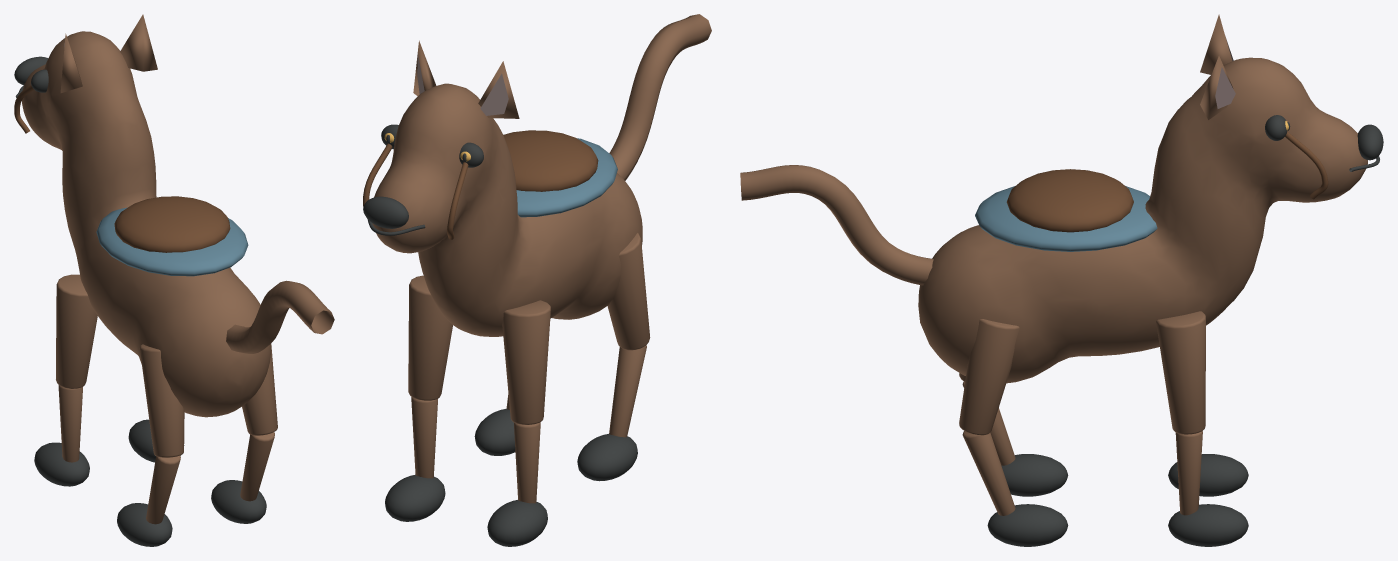
The model's file is warhorse.glb.
The picture shows the model from 3 angles, left to right: view 1: azimuth 30°, elevation 25°; view 2: azimuth 150°, elevation 25°; view 3: azimuth 270°, elevation 25°; orthographic projection. The views are drawn at different scales.
Parts seen in each view (by area): view 1: Sculpted anatomy, Riding saddle, Woven saddle blanket, Upper leg, Flowing tail, Upper leg.001, Paw.003, Paw, Paw.001, Upper leg.003, Lower leg, Lower leg.001 (+5 smaller); view 2: Sculpted anatomy, Flowing tail, Upper leg, Riding saddle, Upper leg.002, Upper leg.001, Woven saddle blanket, Paw.001, Paw.002, Paw, Lower leg.001, Lower leg (+8 smaller); view 3: Sculpted anatomy, Flowing tail, Riding saddle, Woven saddle blanket, Upper leg.002, Upper leg.003, Paw.003, Paw.002, Paw.001, Lower leg.003, Paw, Lower leg.002 (+4 smaller).
Part boxes in pixels (box(x1,y1,x2,y2)): Sculpted anatomy: box(22, 31, 271, 417); Riding saddle: box(114, 196, 230, 252); Woven saddle blanket: box(96, 207, 248, 276); Upper leg: box(56, 274, 97, 388); Flowing tail: box(226, 280, 334, 353); Upper leg.001: box(139, 344, 184, 457); Paw.003: box(211, 480, 266, 523); Paw: box(34, 442, 89, 486); Paw.001: box(117, 503, 172, 546); Upper leg.003: box(242, 345, 277, 435); Lower leg: box(58, 385, 83, 462); Lower leg.001: box(146, 455, 180, 524); Sculpted anatomy: box(372, 83, 642, 336); Flowing tail: box(609, 14, 711, 180); Upper leg: box(502, 300, 550, 424); Riding saddle: box(503, 130, 598, 191); Upper leg.002: box(408, 275, 452, 400); Upper leg.001: box(607, 233, 650, 350); Woven saddle blanket: box(516, 138, 617, 217); Paw.001: box(577, 434, 637, 481); Paw.002: box(385, 474, 445, 521); Paw: box(487, 500, 547, 546); Lower leg.001: box(609, 345, 646, 437); Lower leg: box(514, 422, 540, 503); Sculpted anatomy: box(918, 57, 1367, 383); Flowing tail: box(740, 165, 933, 285); Riding saddle: box(1006, 169, 1133, 232); Woven saddle blanket: box(975, 186, 1157, 251); Upper leg.002: box(1156, 311, 1205, 434); Upper leg.003: box(959, 319, 1019, 435); Paw.003: box(987, 504, 1068, 546); Paw.002: box(1168, 504, 1248, 546); Paw.001: box(1001, 454, 1068, 496); Lower leg.003: box(962, 431, 1015, 515); Paw: box(1168, 454, 1248, 496); Lower leg.002: box(1175, 431, 1202, 515).
Bounding box in the file's own units: 0.81 × 2.51 × 3.03.
